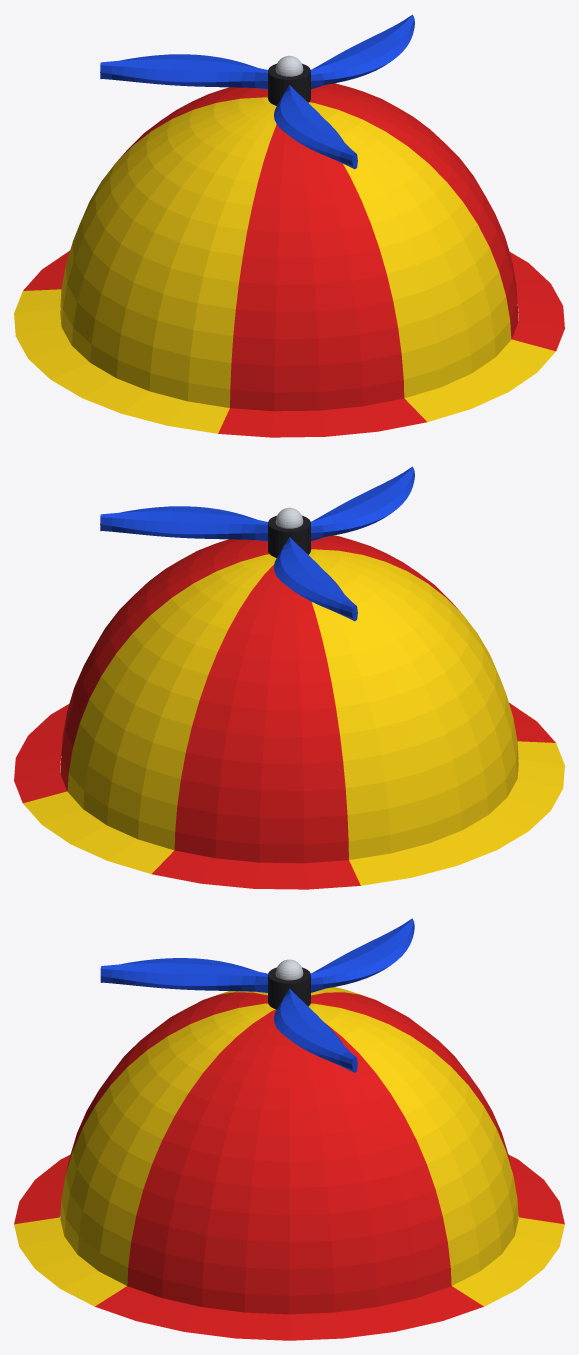
Rendered from Propeller Hat.fbx.
The picture shows the model from 3 angles, top to bottom: view 1: azimuth 30°, elevation 25°; view 2: azimuth 150°, elevation 25°; view 3: azimuth 270°, elevation 25°; orthographic projection.
Visible parts, largest first — view 1: Hat, Blade1, Blade0, Blade2, Cylinder; view 2: Hat, Blade0, Blade2, Blade1, Cylinder; view 3: Hat, Blade2, Blade1, Blade0, Cylinder.
Boxes of the visible parts, x1=… form: Hat: x1=14, y1=83, x2=564, y2=437; Blade1: x1=100, y1=54, x2=267, y2=89; Blade0: x1=311, y1=14, x2=414, y2=88; Blade2: x1=274, y1=85, x2=357, y2=169; Cylinder: x1=268, y1=63, x2=310, y2=105; Hat: x1=14, y1=535, x2=564, y2=889; Blade0: x1=100, y1=506, x2=267, y2=541; Blade2: x1=311, y1=466, x2=414, y2=540; Blade1: x1=274, y1=537, x2=357, y2=621; Cylinder: x1=268, y1=515, x2=310, y2=557; Hat: x1=14, y1=987, x2=564, y2=1340; Blade2: x1=100, y1=958, x2=267, y2=992; Blade1: x1=311, y1=918, x2=414, y2=992; Blade0: x1=274, y1=988, x2=357, y2=1072; Cylinder: x1=268, y1=967, x2=310, y2=1009.
Bounding box in the file's own units: 72 × 38 × 72.
5 materials, 5 textured.
